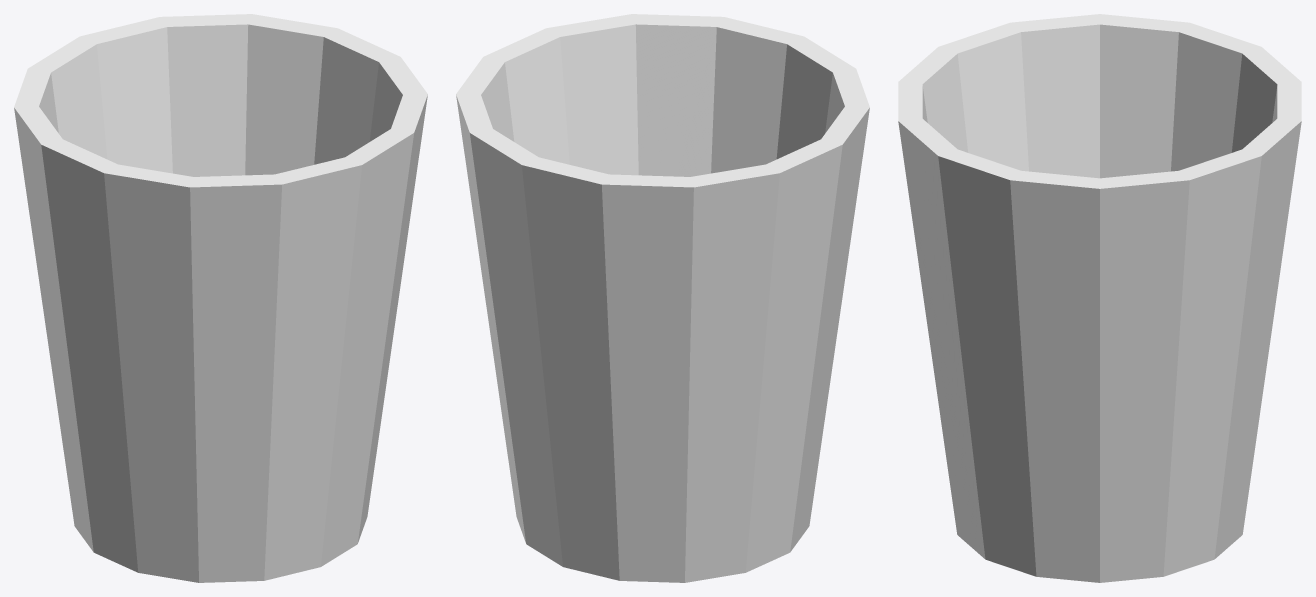
The model's file is Cup_3.fbx.
The picture shows the model from 3 angles, left to right: view 1: azimuth 30°, elevation 25°; view 2: azimuth 150°, elevation 25°; view 3: azimuth 270°, elevation 25°; orthographic projection.
Parts seen in each view (by area): view 1: Cup_3; view 2: Cup_3; view 3: Cup_3.
Part boxes in pixels (left/top/right/bottom): Cup_3: left=14, top=14, right=427, bottom=582; Cup_3: left=456, top=14, right=869, bottom=582; Cup_3: left=898, top=14, right=1301, bottom=582.
Size of the model in its own units: 0.0572 by 0.064 by 0.0558.
